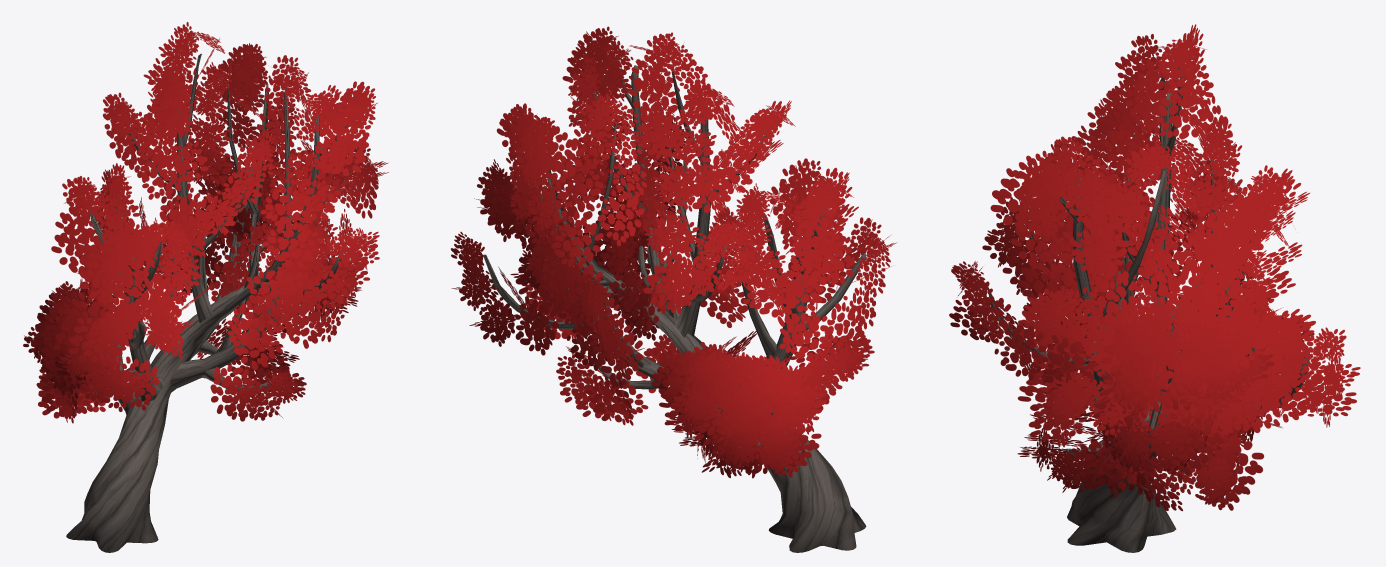
Rendered from twisted-tree-4.glb.
3 views of the same model, side by side, from view 1: azimuth 30°, elevation 25°; view 2: azimuth 150°, elevation 25°; view 3: azimuth 270°, elevation 25° (orthographic). The views are drawn at different scales.
Visible parts, largest first — view 1: TwistedTree_1; view 2: TwistedTree_1; view 3: TwistedTree_1.
Boxes of the visible parts, box(x1,y1,x2,y2) form: TwistedTree_1: box(23, 22, 388, 552); TwistedTree_1: box(451, 26, 896, 552); TwistedTree_1: box(949, 24, 1360, 552).
Bounding box in the file's own units: 13.52 × 16.73 × 11.55.
2 materials, 2 textured.
